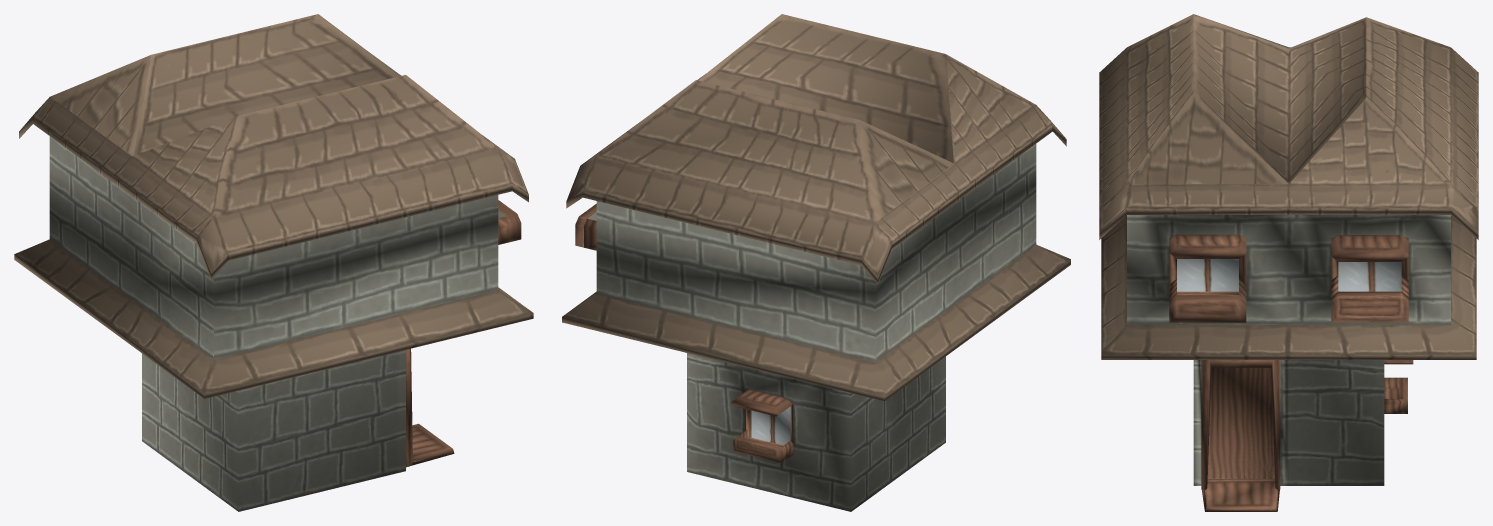
File: casa3.fbx
3 views of the same model, side by side, from view 1: azimuth 30°, elevation 25°; view 2: azimuth 150°, elevation 25°; view 3: azimuth 270°, elevation 25° (orthographic).
Parts seen in each view (by area): view 1: Cube; view 2: Cube; view 3: Cube.
Part boxes in pixels (x1,y1,x2,y2): Cube: (14,14,533,511); Cube: (562,14,1070,511); Cube: (1099,14,1478,511).
Size of the model in its own units: 6.8 by 7.33 by 6.44.
